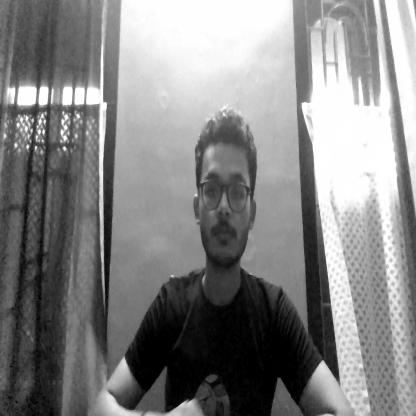Normal: (190, 103, 266, 274)
